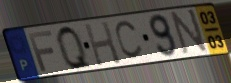9: (148, 12, 179, 59)
C: (114, 19, 145, 61)
F: (26, 29, 56, 73)
H: (82, 20, 124, 68)
N: (170, 7, 210, 56)
Q: (55, 23, 95, 71)
